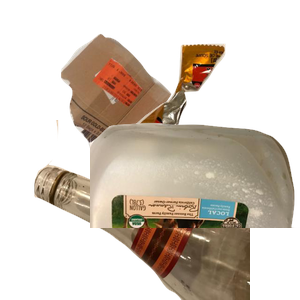cardboard: (58, 31, 222, 188)
glass: (31, 120, 271, 300)
plastic: (90, 120, 300, 300)
trash: (122, 41, 300, 190)
